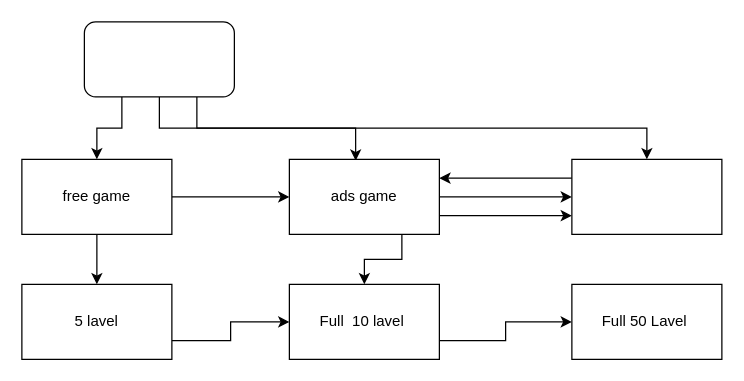
Some shapes in this 744 by 381 pixel diagram are drawn without their labels. The box of each missing label's shape, as (x1, y1, x2, y2) in pixels:
in app payment: (571, 158, 722, 234)
New game: (83, 21, 234, 97)
